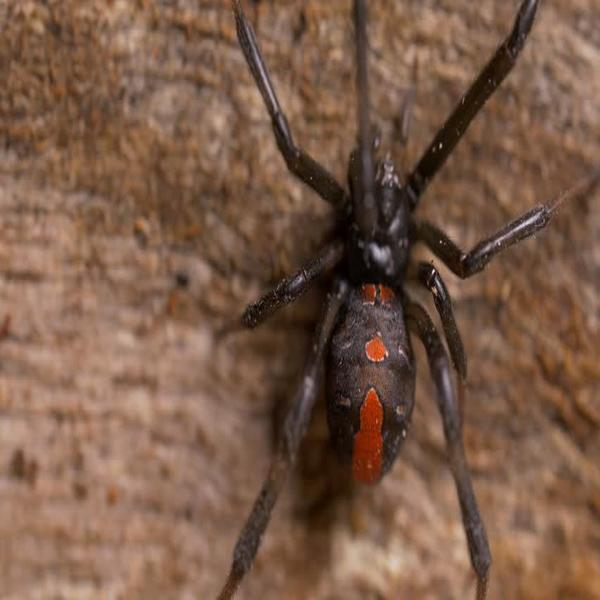Redback Spider: (227, 10, 572, 588)
